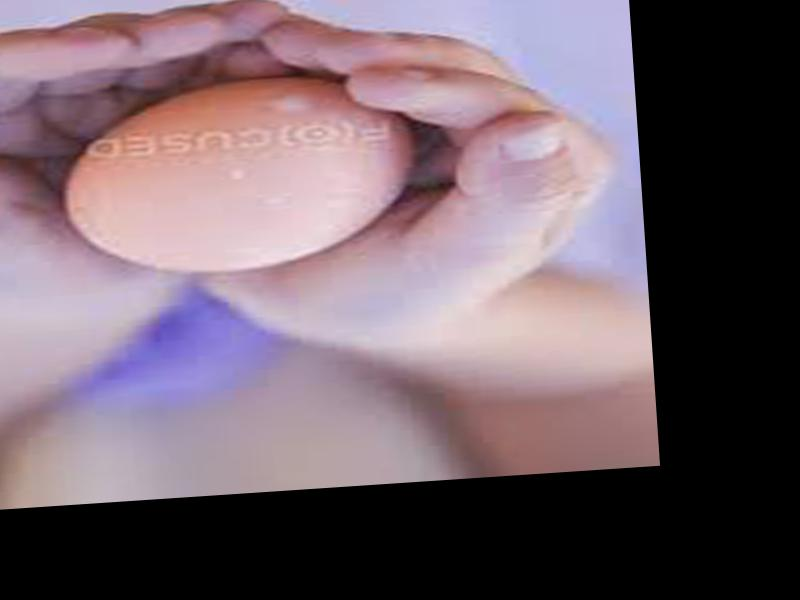Eggs: (51, 68, 418, 284)
